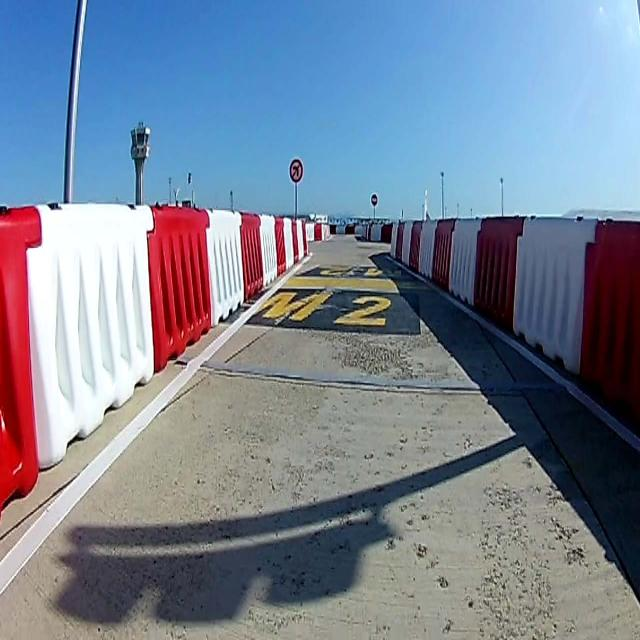soladonulmez: (288, 158, 304, 185)
